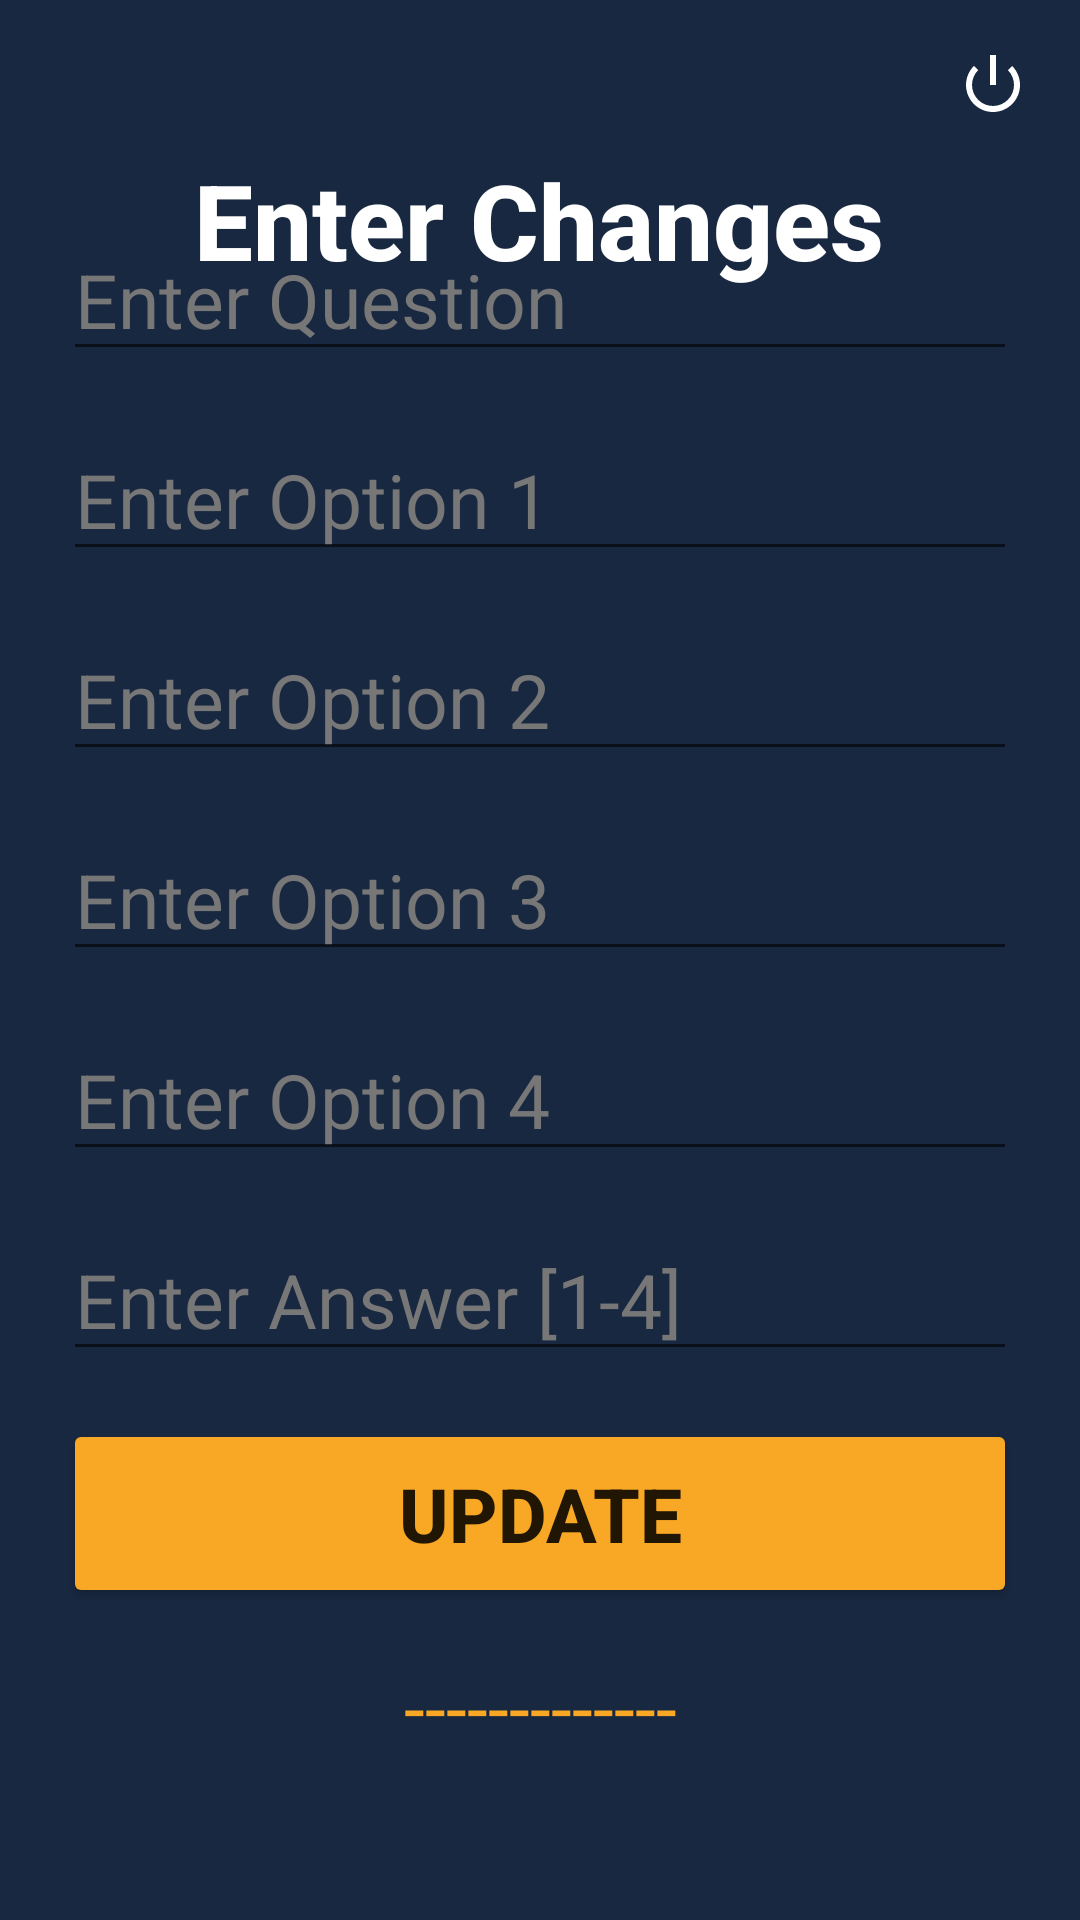

Icons on this 1080 x 1920 Android screen, each with the point to tap as (x,y):
lock power off: (993,83)
